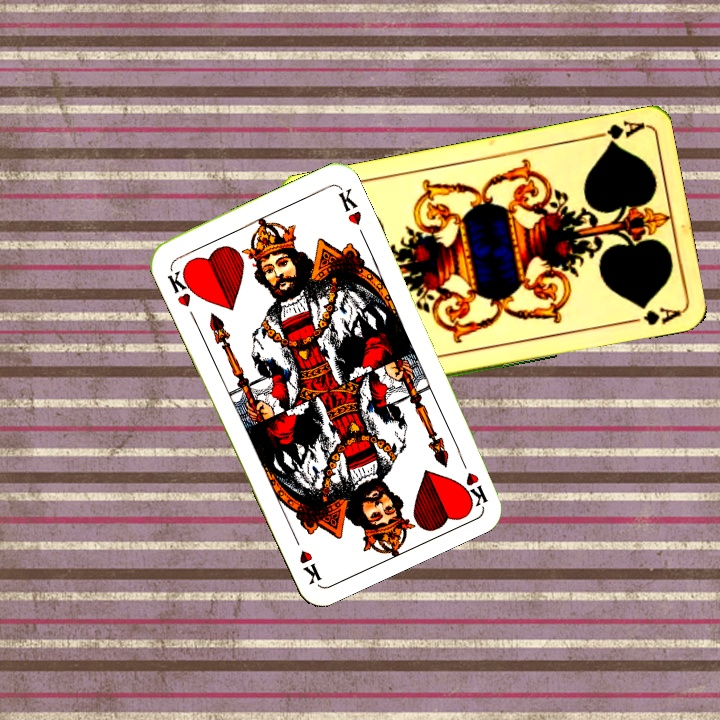GA: (587, 117, 646, 149)
HK: (454, 450, 491, 508), (163, 264, 199, 309)
